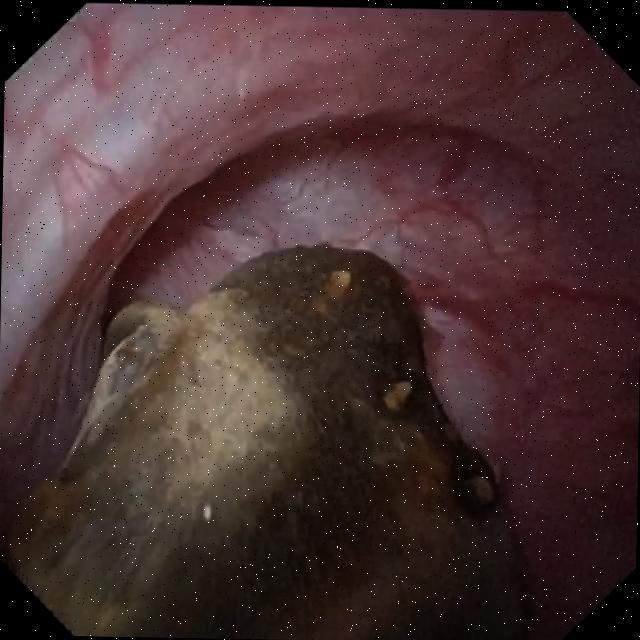stone-new: (9, 245, 523, 640)
